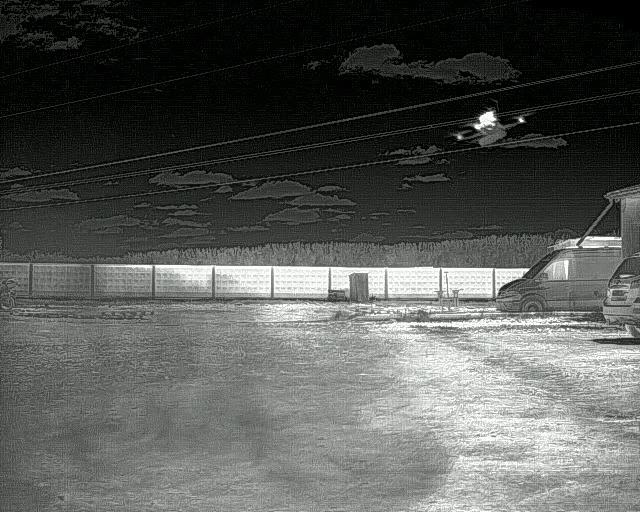drone-thermal: (452, 102, 531, 148)
